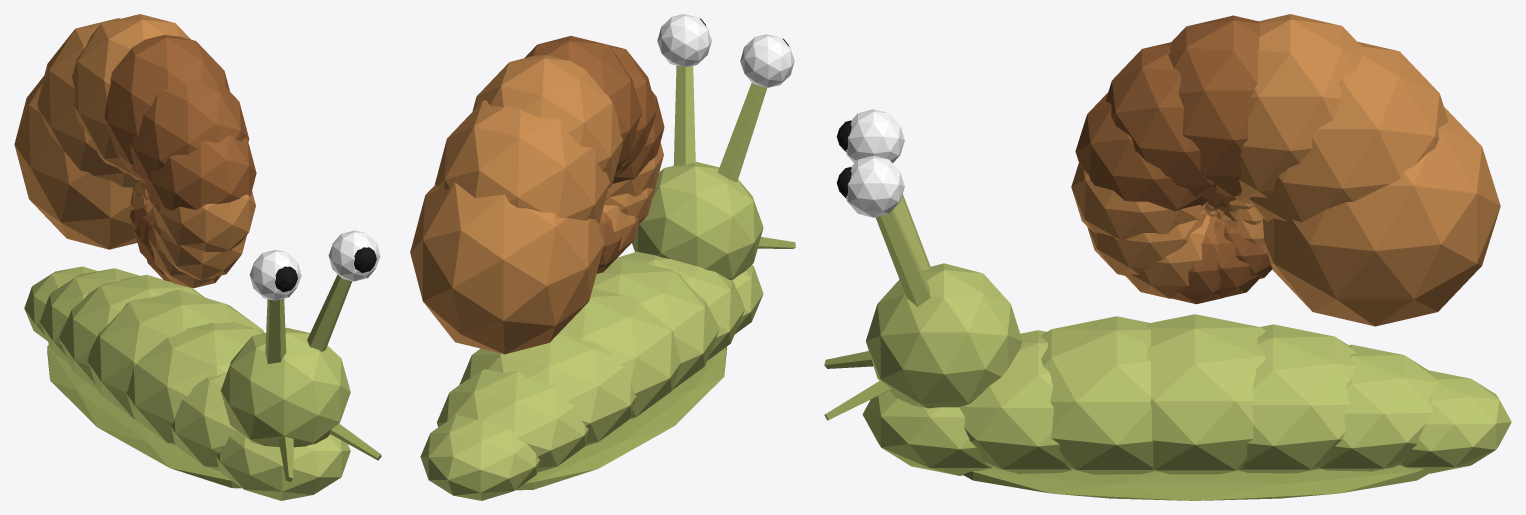
The model's file is caracol.glb.
The picture shows the model from 3 angles, left to right: view 1: azimuth 30°, elevation 25°; view 2: azimuth 150°, elevation 25°; view 3: azimuth 270°, elevation 25°; orthographic projection. The views are drawn at different scales.
Parts seen in each view (by area): view 1: caracol_caracol_cuerpo, caracol_concha, caracol_concha_osc, caracol_caracol_cuerpo_osc, caracol_ojo_blanco, caracol_pupila; view 2: caracol_caracol_cuerpo, caracol_concha, caracol_concha_osc, caracol_caracol_cuerpo_osc, caracol_ojo_blanco; view 3: caracol_caracol_cuerpo, caracol_concha, caracol_concha_osc, caracol_caracol_cuerpo_osc, caracol_ojo_blanco.
Boxes of the visible parts, x1=… form: caracol_caracol_cuerpo: x1=24, y1=266, x2=352, y2=500; caracol_concha: x1=14, y1=14, x2=255, y2=288; caracol_concha_osc: x1=104, y1=35, x2=256, y2=281; caracol_caracol_cuerpo_osc: x1=47, y1=344, x2=381, y2=488; caracol_ojo_blanco: x1=249, y1=230, x2=380, y2=300; caracol_pupila: x1=275, y1=247, x2=376, y2=292; caracol_caracol_cuerpo: x1=420, y1=65, x2=767, y2=500; caracol_concha: x1=410, y1=55, x2=663, y2=354; caracol_concha_osc: x1=525, y1=36, x2=664, y2=273; caracol_caracol_cuerpo_osc: x1=516, y1=237, x2=795, y2=490; caracol_ojo_blanco: x1=657, y1=14, x2=794, y2=87; caracol_caracol_cuerpo: x1=862, y1=194, x2=1511, y2=475; caracol_concha: x1=1071, y1=14, x2=1500, y2=326; caracol_concha_osc: x1=1075, y1=15, x2=1272, y2=304; caracol_caracol_cuerpo_osc: x1=824, y1=351, x2=1431, y2=500; caracol_ojo_blanco: x1=846, y1=109, x2=904, y2=217.
Size of the model in its own units: 0.3 by 0.629 by 0.877.
